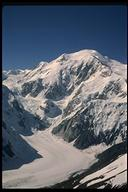mountain: (1, 37, 126, 190)
sky: (5, 7, 124, 46)
snow: (60, 62, 119, 122)
